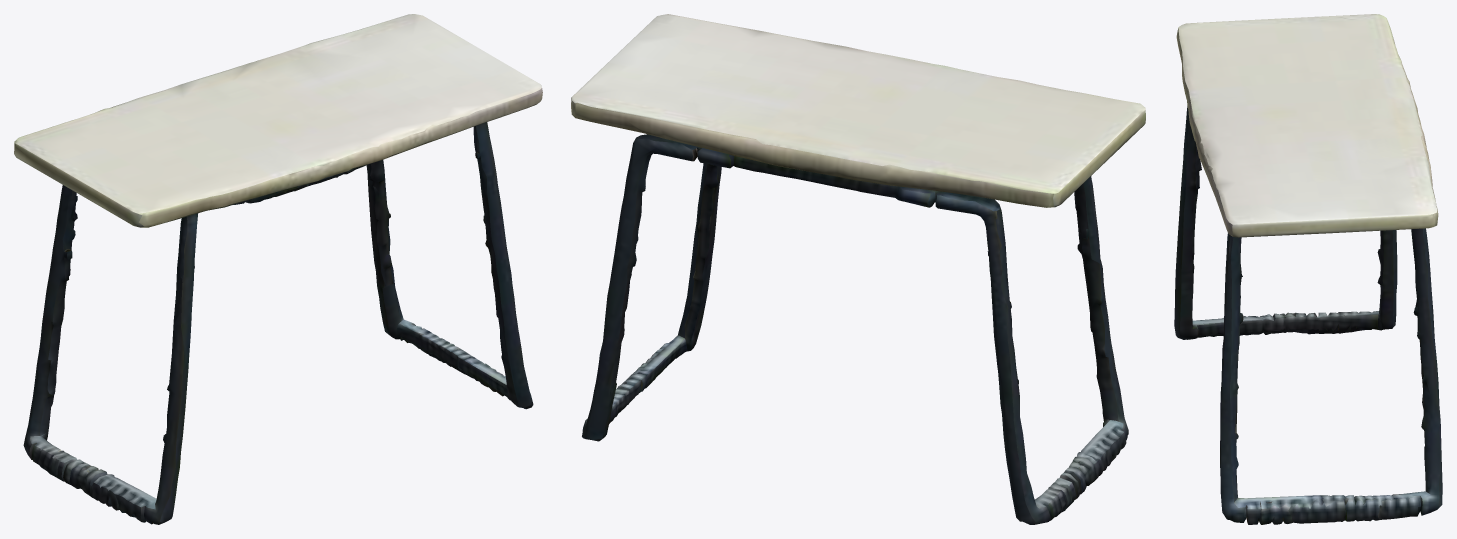
The picture shows the model from 3 angles, left to right: view 1: azimuth 30°, elevation 25°; view 2: azimuth 150°, elevation 25°; view 3: azimuth 270°, elevation 25°; orthographic projection. The views are drawn at different scales.
Parts seen in each view (by area): view 1: world; view 2: world; view 3: world.
Part boxes in pixels (x1,y1,x2,y2): world: (14,14,542,524); world: (571,14,1145,524); world: (1174,14,1442,524).
Size of the model in its own units: 0.6975 by 0.477 by 0.3723.
Materials: 1 (1 with a texture image).
